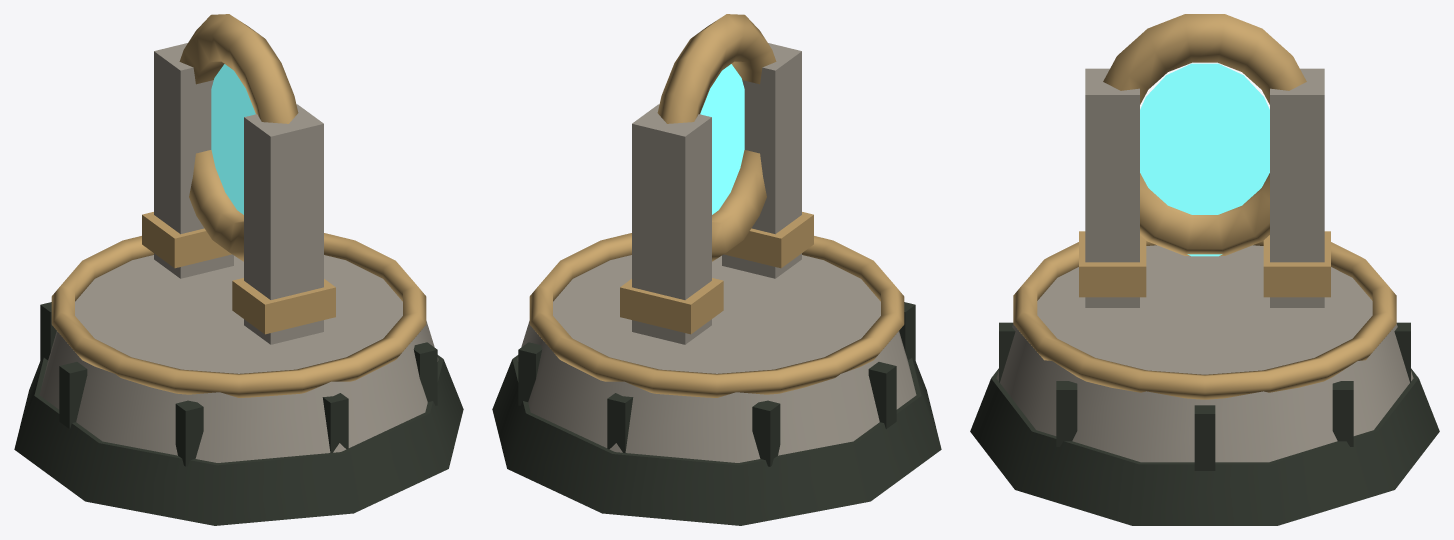
The model's file is tower_portal.glb.
The picture shows the model from 3 angles, left to right: view 1: azimuth 30°, elevation 25°; view 2: azimuth 150°, elevation 25°; view 3: azimuth 270°, elevation 25°; orthographic projection. The views are drawn at different scales.
Parts seen in each view (by area): view 1: stone_1, foot_0, rim_2, arch_pillar_11, arch_15, arch_pillar_13, portal_surface_16, band_12, band_14, mortar_6, mortar_7, mortar_5 (+2 smaller); view 2: stone_1, foot_0, rim_2, arch_pillar_13, arch_15, arch_pillar_11, portal_surface_16, band_14, band_12, mortar_8, mortar_7, mortar_9 (+2 smaller); view 3: stone_1, foot_0, portal_surface_16, arch_15, rim_2, arch_pillar_11, arch_pillar_13, band_12, band_14, mortar_3, mortar_4, mortar_10 (+2 smaller).
Part boxes in pixels (box(x1,y1,x2,y2)): stone_1: box(39, 255, 438, 462); foot_0: box(14, 355, 463, 525); rim_2: box(51, 233, 426, 397); arch_pillar_11: box(244, 104, 323, 344); arch_15: box(179, 14, 298, 261); arch_pillar_13: box(154, 43, 233, 278); portal_surface_16: box(211, 64, 255, 214); band_12: box(232, 278, 335, 334); band_14: box(142, 212, 231, 268); mortar_6: box(175, 400, 203, 466); mortar_7: box(59, 362, 87, 428); mortar_5: box(322, 393, 348, 452); stone_1: box(517, 255, 916, 462); foot_0: box(492, 355, 941, 525); rim_2: box(529, 233, 904, 397); arch_pillar_13: box(632, 104, 711, 344); arch_15: box(657, 14, 776, 261); arch_pillar_11: box(722, 43, 801, 278); portal_surface_16: box(700, 64, 744, 214); band_14: box(620, 278, 723, 334); band_12: box(724, 212, 813, 268); mortar_8: box(752, 400, 780, 466); mortar_7: box(868, 362, 896, 428); mortar_9: box(607, 393, 633, 452); stone_1: box(996, 245, 1413, 462); foot_0: box(970, 368, 1439, 525); portal_surface_16: box(1140, 63, 1269, 256); arch_15: box(1103, 14, 1306, 255); rim_2: box(1013, 241, 1396, 399); arch_pillar_11: box(1085, 68, 1139, 307); arch_pillar_13: box(1270, 68, 1324, 307); band_12: box(1079, 231, 1146, 297); band_14: box(1263, 231, 1330, 297); mortar_3: box(1194, 405, 1215, 470); mortar_4: box(1056, 381, 1077, 446); mortar_10: box(1332, 381, 1353, 446).
Bounding box in the file's own units: 0.5326 × 0.5492 × 0.56.
